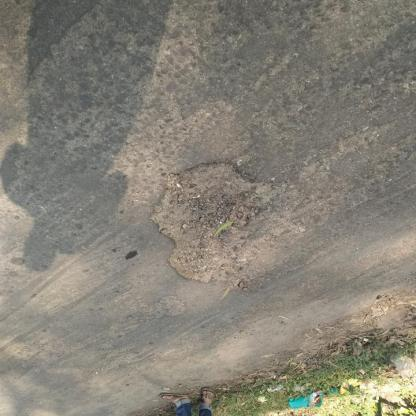pothole: (149, 160, 279, 291), (151, 296, 188, 321)
